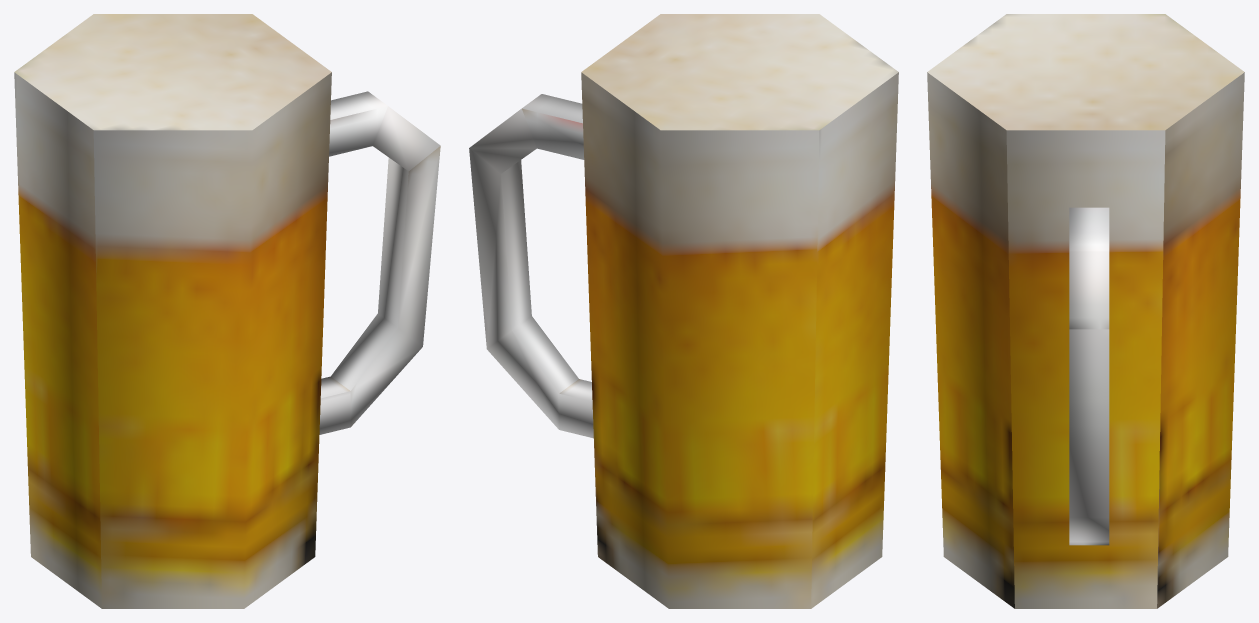
File: BeerLagerInGlassV3.fbx
3 renders of one model, left to right at view 1: azimuth 30°, elevation 25°; view 2: azimuth 150°, elevation 25°; view 3: azimuth 270°, elevation 25°, orthographic.
Visible parts, largest first — view 1: Beer&Wine; view 2: Beer&Wine; view 3: Beer&Wine.
Boxes of the visible parts, x1,y1,x2,y2 form: Beer&Wine: (14,14,440,608); Beer&Wine: (469,14,898,608); Beer&Wine: (927,14,1244,608).
Bounding box in the file's own units: 0.1914 × 0.2343 × 0.1392.
